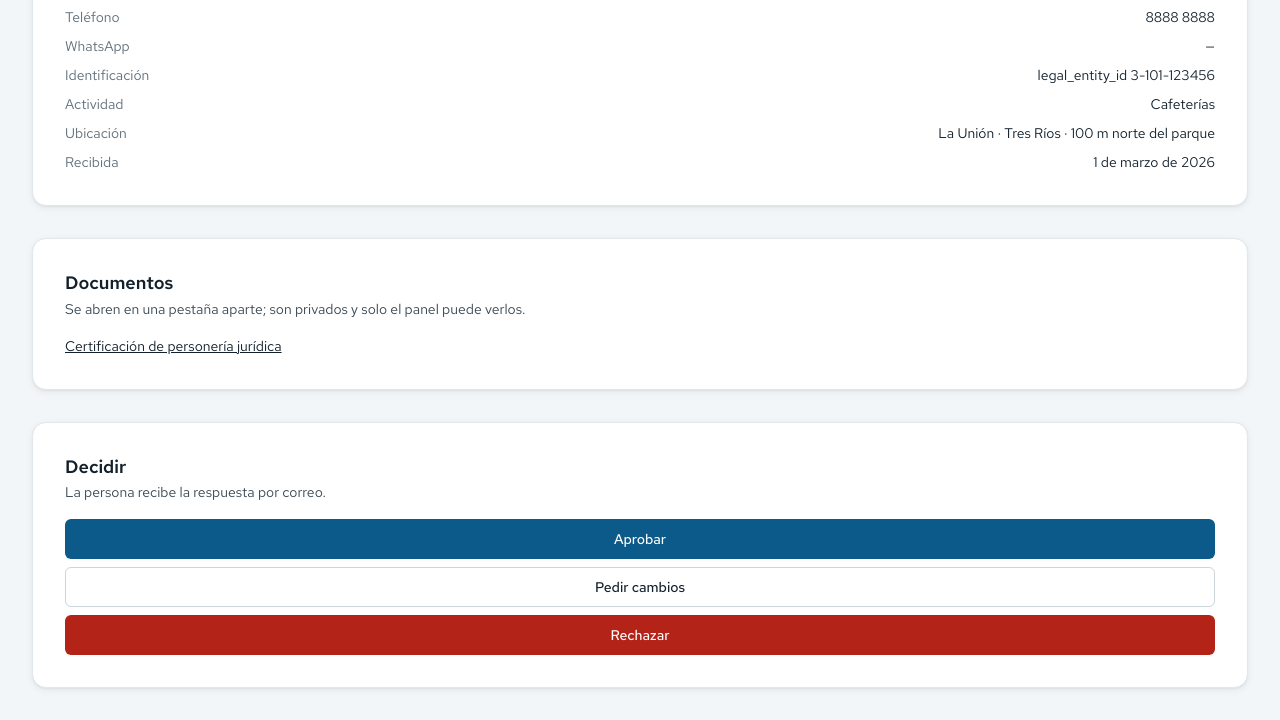
Test case: ApplicationDetailPage › rejecting asks for a reason before anything is sent
(page scrolled)
Click the button "Rechazar" at (640, 635), box [65,615,1215,655]
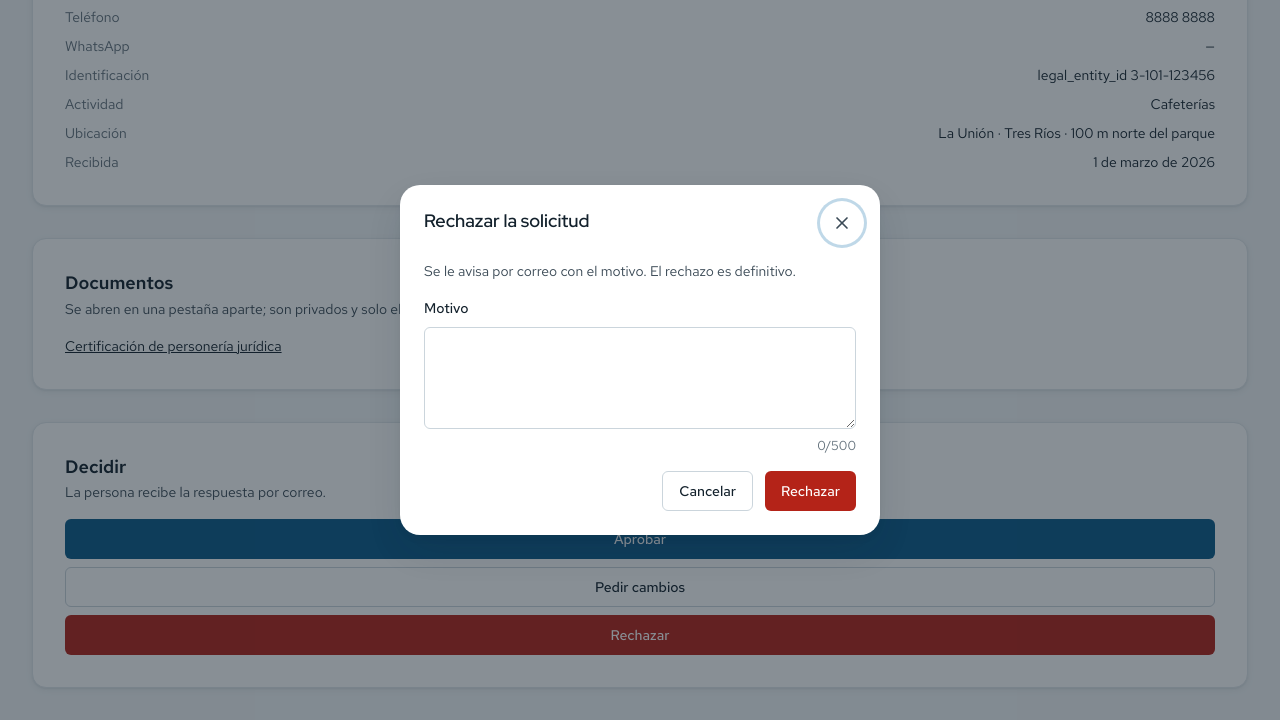
Type "La certificación no corresponde a la razón social." into the text box labelled "Motivo" at (640, 378), box [424,327,856,429]
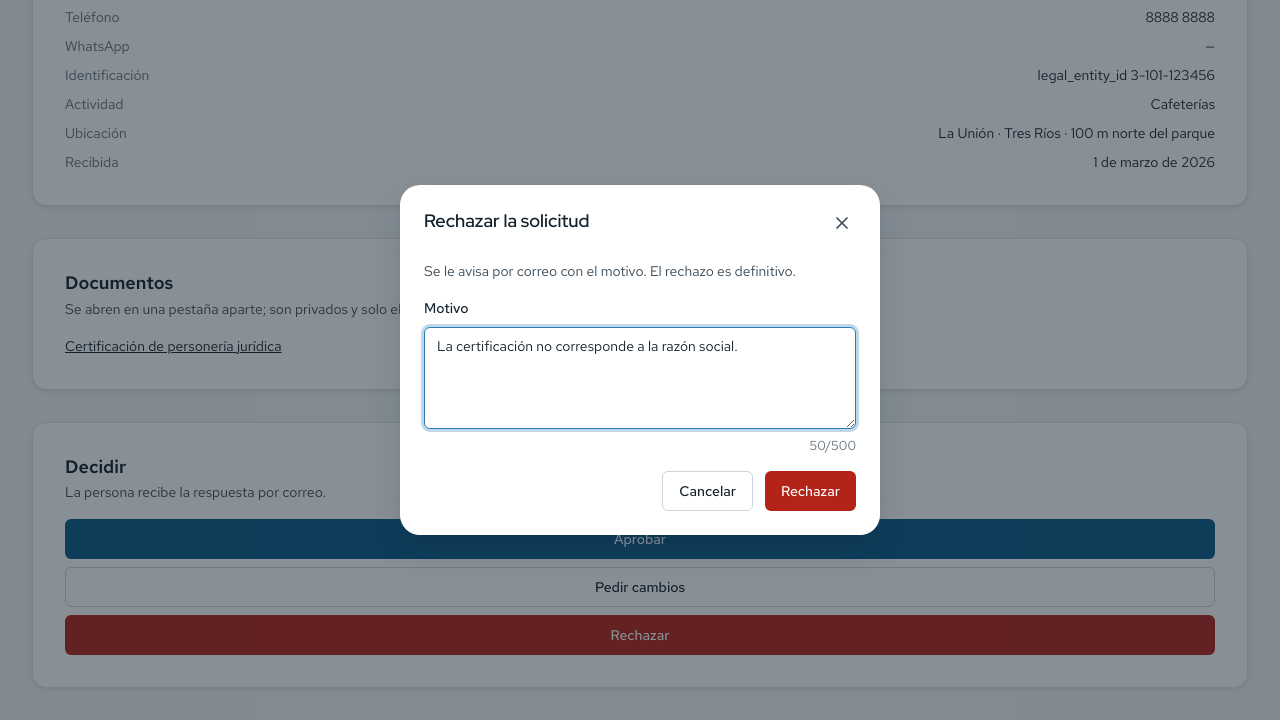
Click the button "Rechazar" at (810, 491), box [765,471,856,511]
(page scrolled)
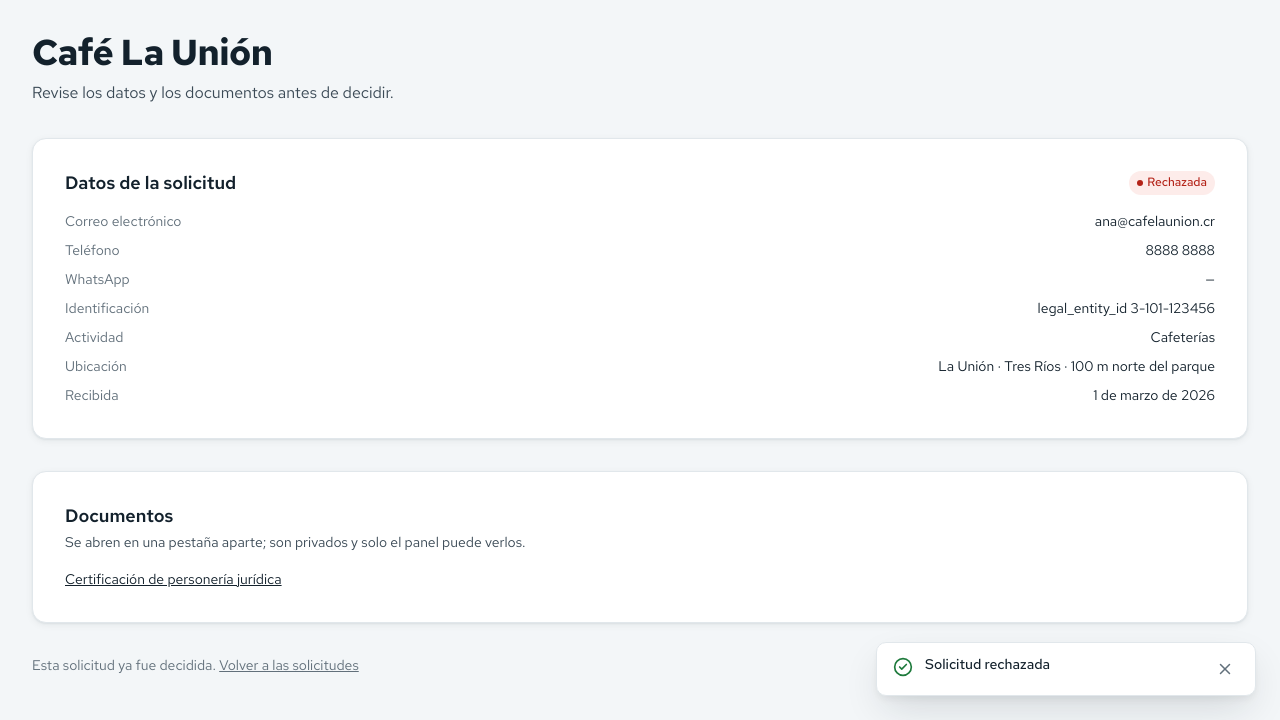
Result: the text "Solicitud rechazada" is shown at [925,655,1050,673]
